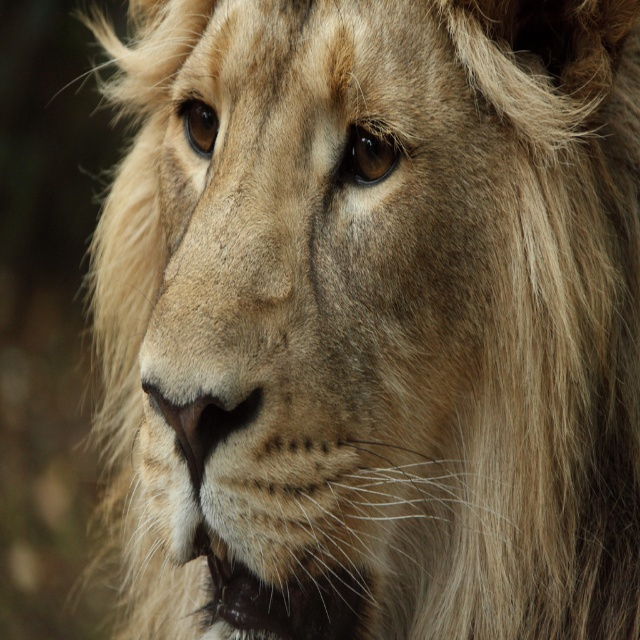Lion: (45, 0, 640, 640)
